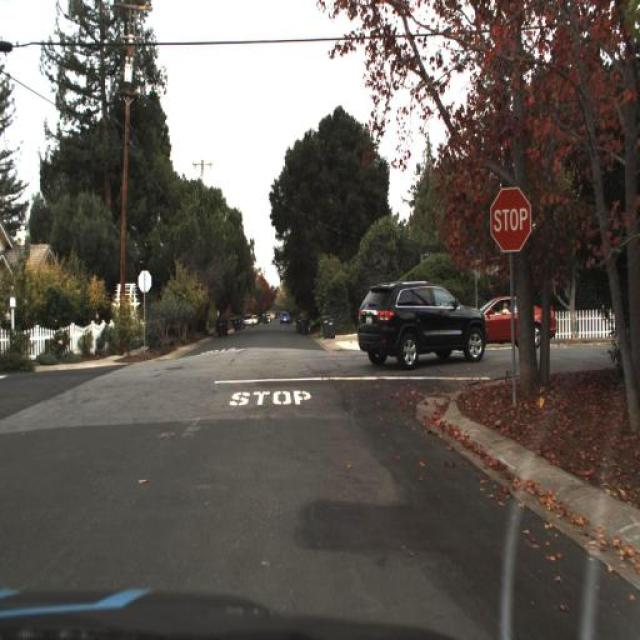car: (354, 280, 490, 370), (462, 291, 560, 353)
